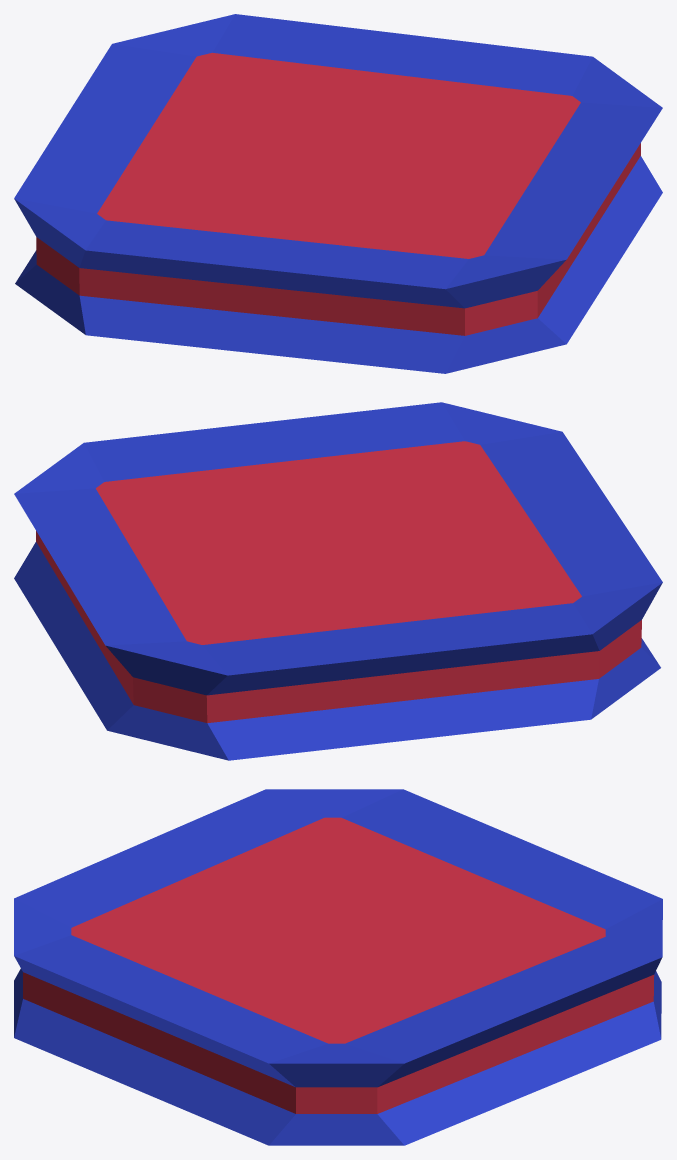
Rendered from bouncerplatform1.glb.
3 renders of one model, top to bottom at view 1: azimuth 30°, elevation 25°; view 2: azimuth 150°, elevation 25°; view 3: azimuth 270°, elevation 25°, orthographic. The views are drawn at different scales.
Visible parts, largest first — view 1: Cube.003; view 2: Cube.003; view 3: Cube.003.
Part boxes in pixels (x1,y1,x2,y2): Cube.003: (14,14,662,373); Cube.003: (14,402,662,760); Cube.003: (14,789,662,1145).
Size of the model in its own units: 3.02 by 0.4266 by 3.02.
